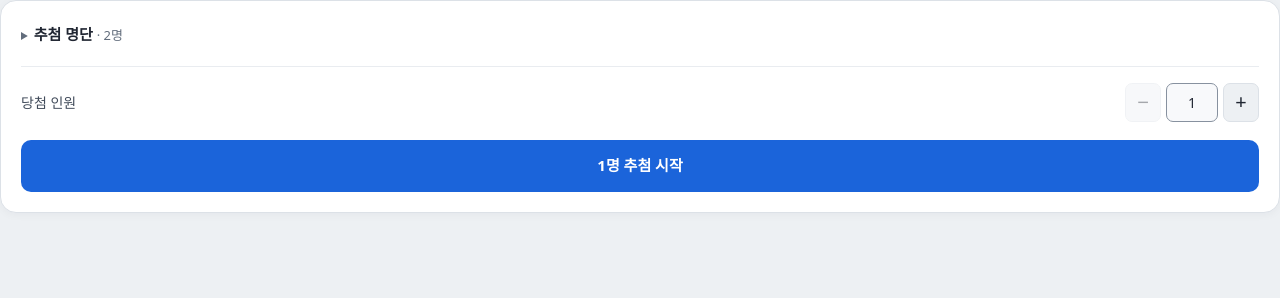
LotterySettingsPanel › blocks an invalid manually entered winner count 0
Replace the text in the number field labelled "당첨 인원" with "0" at (1192, 102), box [1166,82,1218,122]
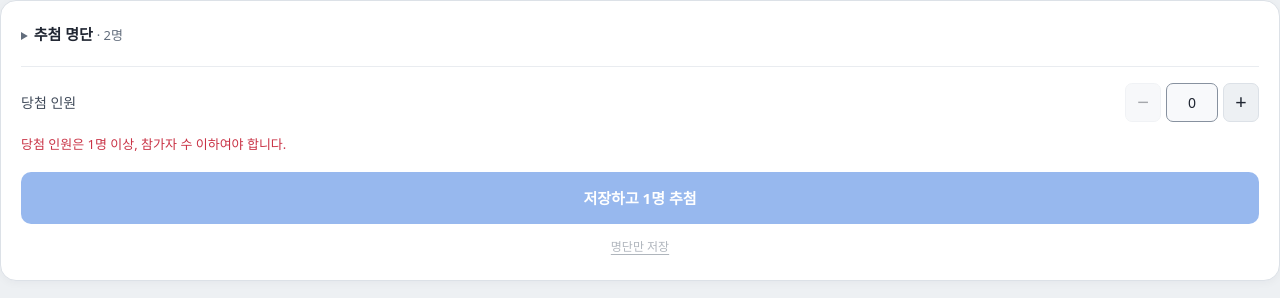
Now the message shows "당첨 인원", box [21,134,286,152]
Now the button "명단만 저장" is disabled, box [603,234,677,260]
Now the button "저장하고 1명 추첨" is disabled, box [21,172,1259,224]
